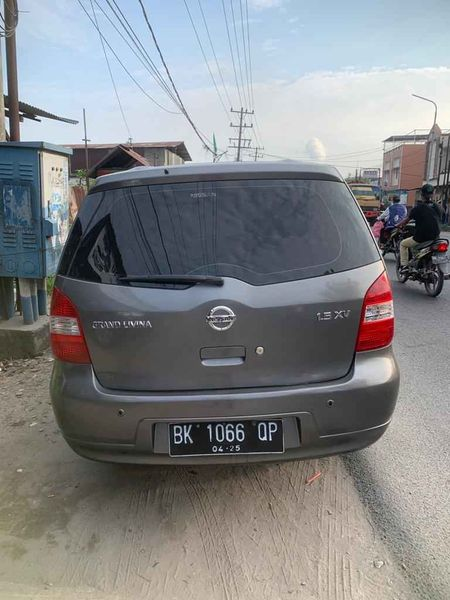plate: (167, 419, 285, 457)
